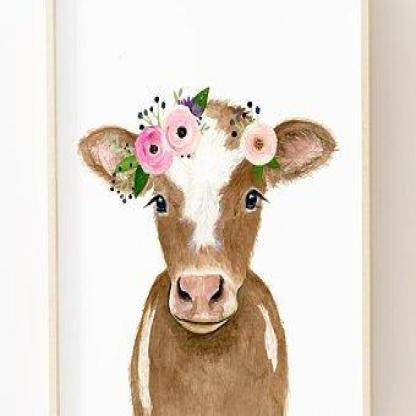cow: (77, 98, 336, 416)
